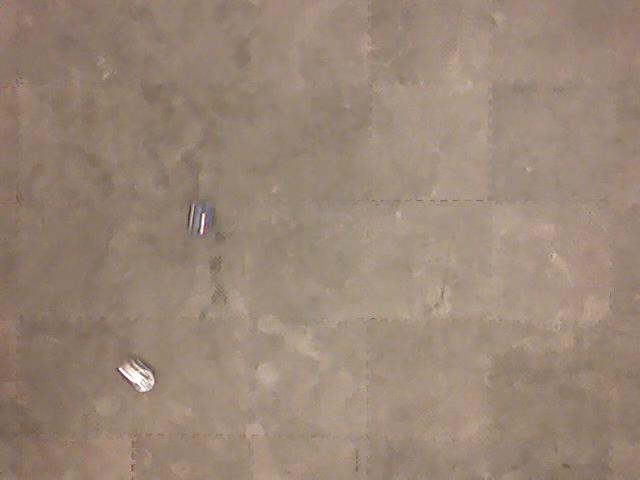Agent: (114, 354, 159, 395), (185, 199, 216, 239)
